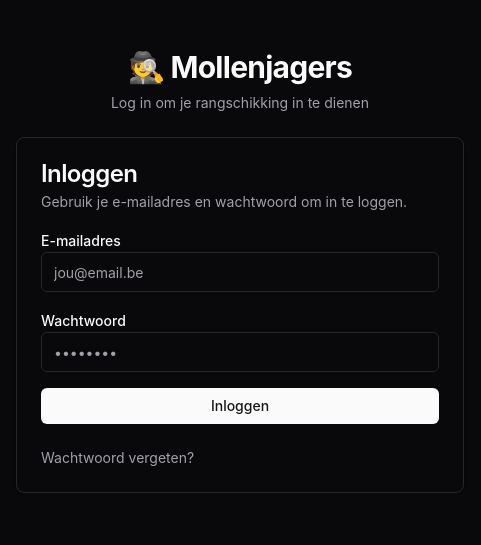
Scenario: LoginPage › shows error on failed login
Type "a@b.com" into the field labelled "E-mailadres" at (240, 272), box [41, 252, 439, 292]
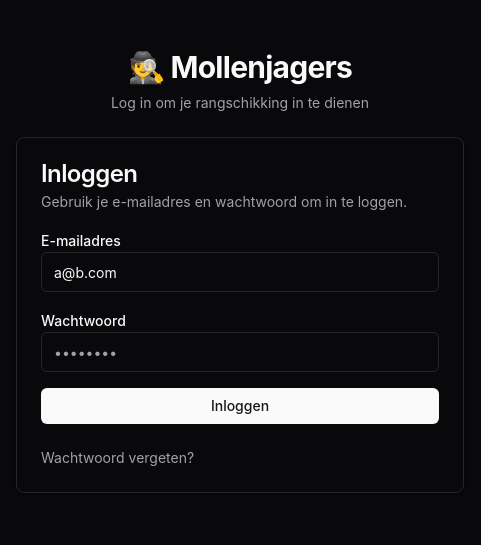
Type "wrong" into the password field labelled "Wachtwoord" at (240, 352), box [41, 332, 439, 372]
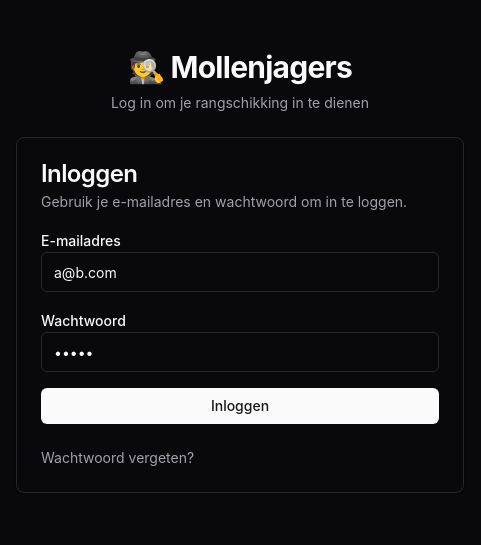
Click the button "Inloggen" at (240, 406), box [41, 388, 439, 424]
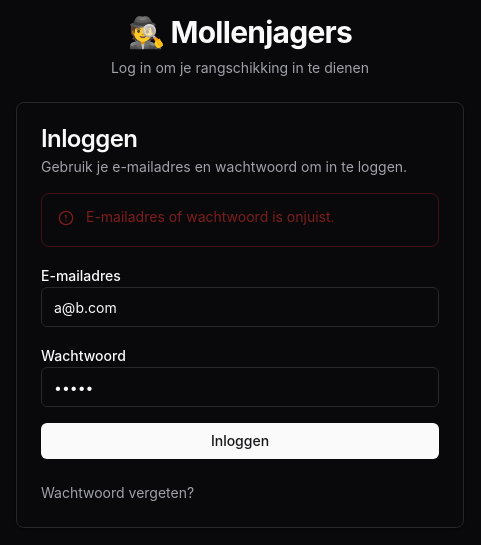
Expected: the text "E-mailadres of wachtwoord is onjuist." is shown, [86, 208, 335, 225]
